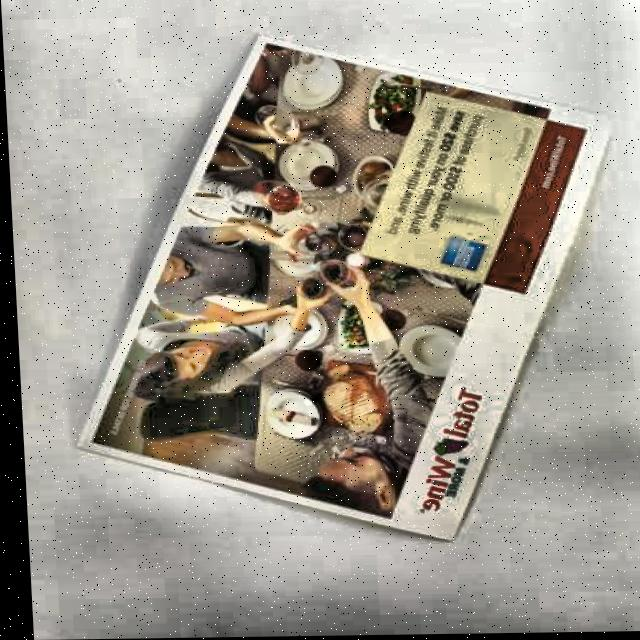paper: (55, 31, 632, 549)
